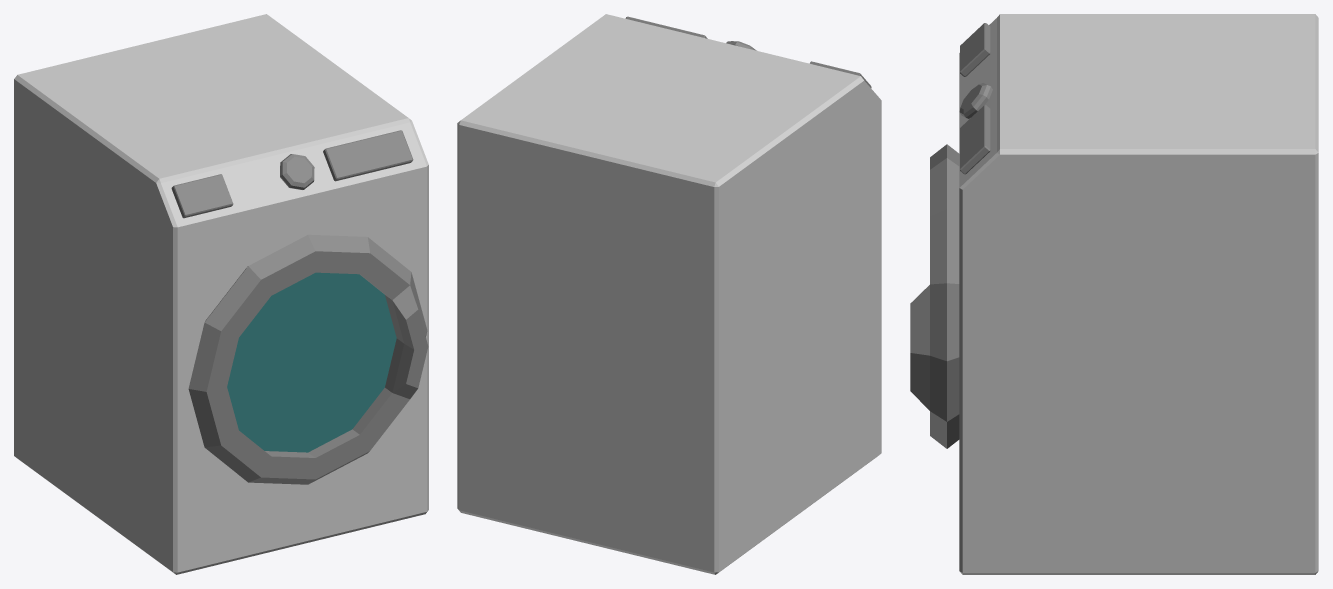
The model's file is Washing Machine.gltf.
3 renders of one model, left to right at view 1: azimuth 30°, elevation 25°; view 2: azimuth 150°, elevation 25°; view 3: azimuth 270°, elevation 25°, orthographic. The views are drawn at different scales.
Parts seen in each view (by area): view 1: Washing machine, Washing machine.001; view 2: Washing machine; view 3: Washing machine, Washing machine.001.
Boxes of the visible parts, x1,y1,x2,y2 form: Washing machine: [14, 14, 428, 574]; Washing machine.001: [188, 234, 428, 484]; Washing machine: [457, 14, 881, 574]; Washing machine: [959, 14, 1318, 574]; Washing machine.001: [910, 144, 959, 448].
Size of the model in its own units: 305 by 437 by 380.
